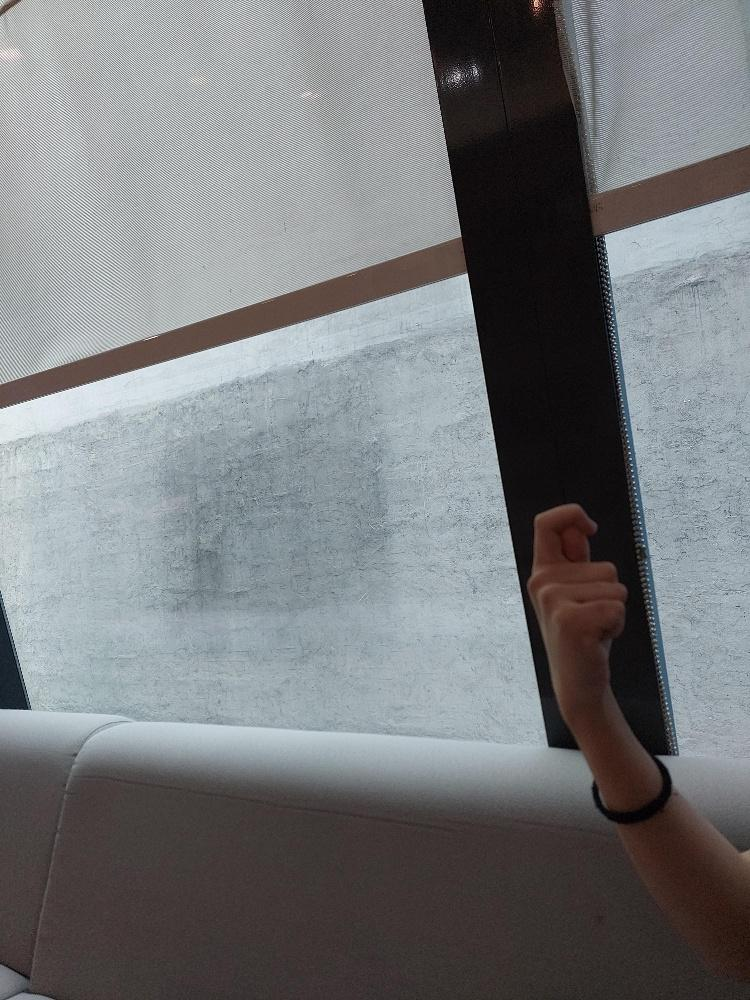t: (523, 502, 625, 685)
